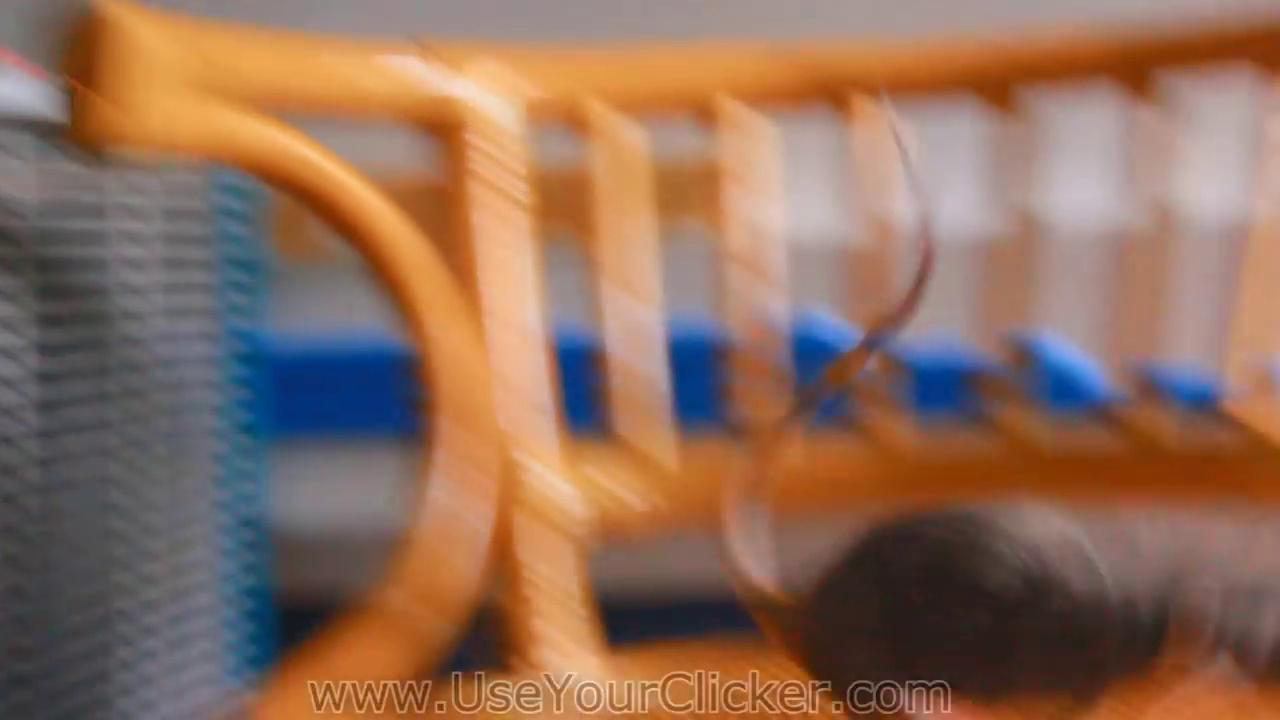rat: (716, 94, 1123, 719)
